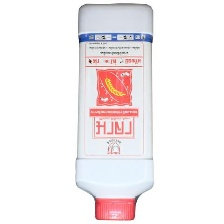insecticide: (70, 0, 156, 222)
